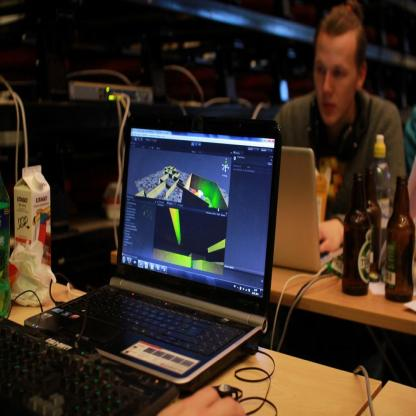board: (24, 107, 283, 397), (274, 144, 345, 276), (14, 165, 50, 274), (385, 174, 414, 302), (345, 170, 369, 295), (370, 134, 390, 236), (0, 162, 11, 317), (366, 167, 379, 282)
